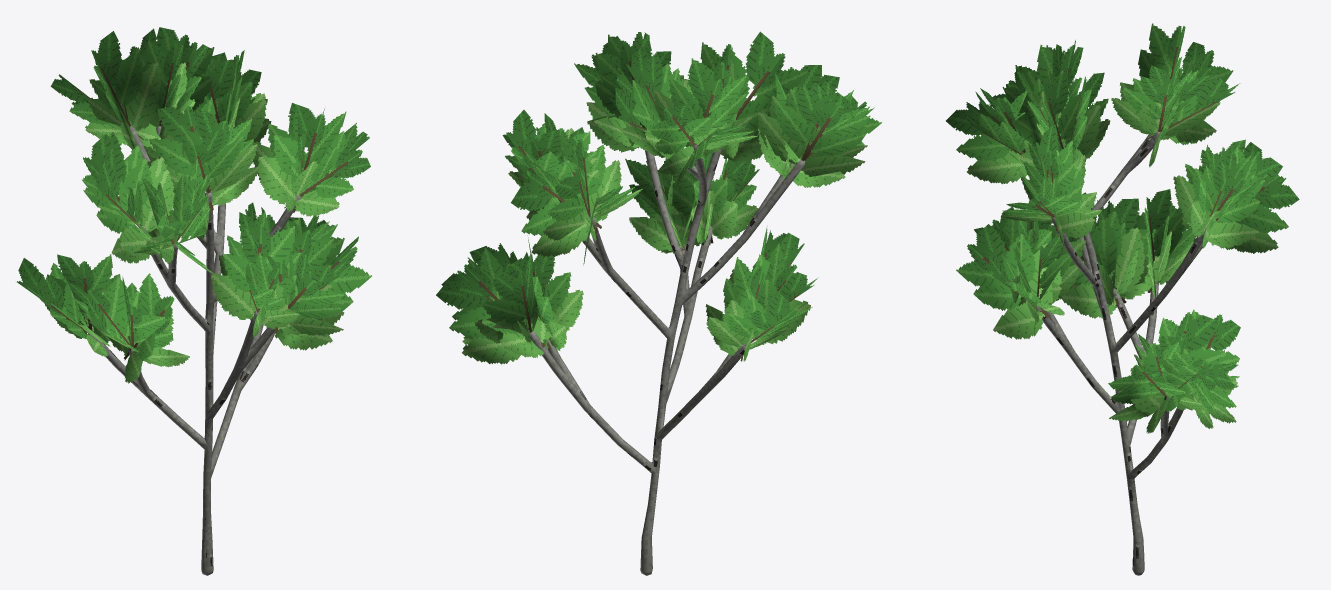
File: environment_elmsapling5_v15.fbx
3 renders of one model, left to right at view 1: azimuth 30°, elevation 25°; view 2: azimuth 150°, elevation 25°; view 3: azimuth 270°, elevation 25°, orthographic. The views are drawn at different scales.
Visible parts, largest first — view 1: environment_elmsapling5_v15_lod0; view 2: environment_elmsapling5_v15_lod0; view 3: environment_elmsapling5_v15_lod0.
Boxes of the visible parts, left/top/right/bottom form: environment_elmsapling5_v15_lod0: left=17, top=27, right=371, bottom=575; environment_elmsapling5_v15_lod0: left=436, top=31, right=881, bottom=575; environment_elmsapling5_v15_lod0: left=946, top=23, right=1299, bottom=575.
Size of what is drawn, in the model's own units: 161 by 226 by 151.
Materials: 2 (2 with a texture image).
